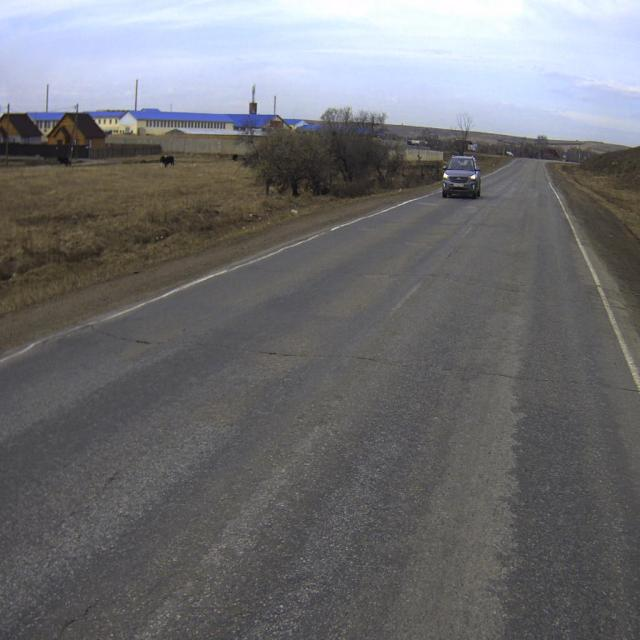road: (0, 158, 640, 639)
